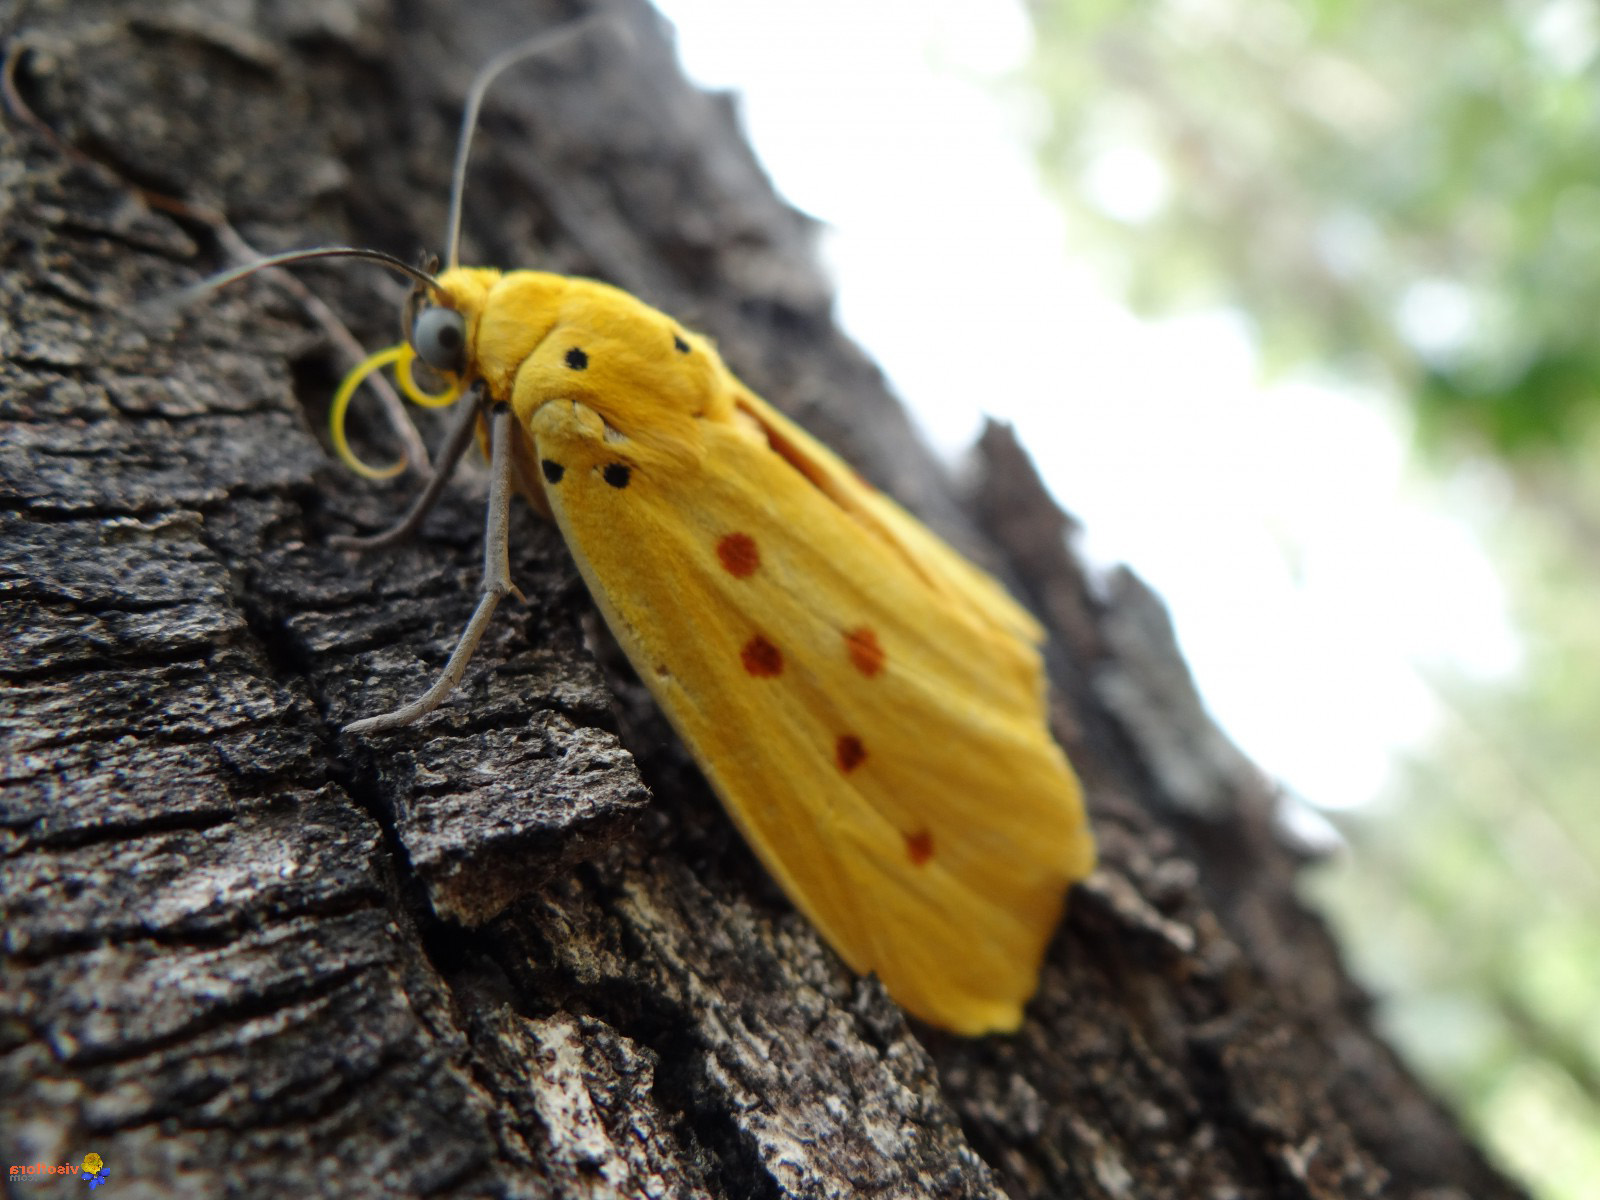Agape chloropyga: (94, 37, 1146, 1058)
moth: (92, 35, 1145, 1055)
